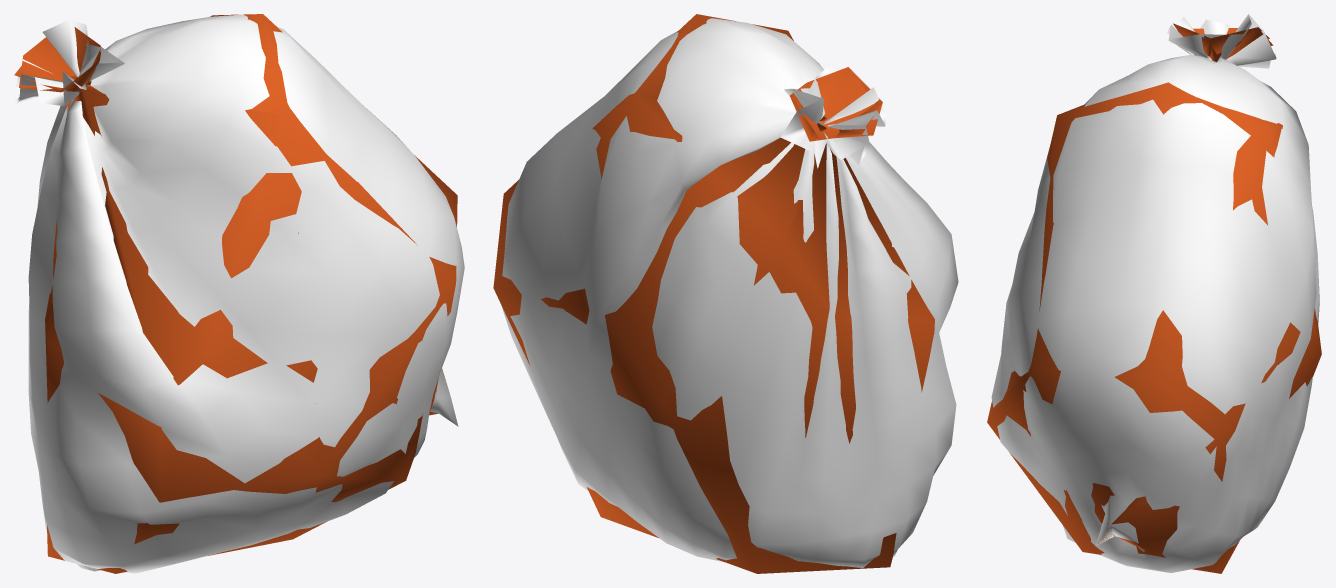
The model's file is Garbage_bag_02.fbx.
3 views of the same model, side by side, from view 1: azimuth 30°, elevation 25°; view 2: azimuth 150°, elevation 25°; view 3: azimuth 270°, elevation 25° (orthographic). The views are drawn at different scales.
Visible parts, largest first — view 1: garbagebags_blue_02_LOD0, UTM_garbagebags_blue_02_COL; view 2: garbagebags_blue_02_LOD0, UTM_garbagebags_blue_02_COL; view 3: garbagebags_blue_02_LOD0, UTM_garbagebags_blue_02_COL.
Boxes of the visible parts, x1,y1,x2,y2 form: garbagebags_blue_02_LOD0: (15, 14, 464, 573); UTM_garbagebags_blue_02_COL: (14, 14, 457, 573); garbagebags_blue_02_LOD0: (501, 18, 958, 567); UTM_garbagebags_blue_02_COL: (493, 14, 934, 573); garbagebags_blue_02_LOD0: (991, 14, 1319, 572); UTM_garbagebags_blue_02_COL: (987, 23, 1321, 573).
Size of what is drawn, in the model's own units: 47.31 by 54.31 by 35.25.
